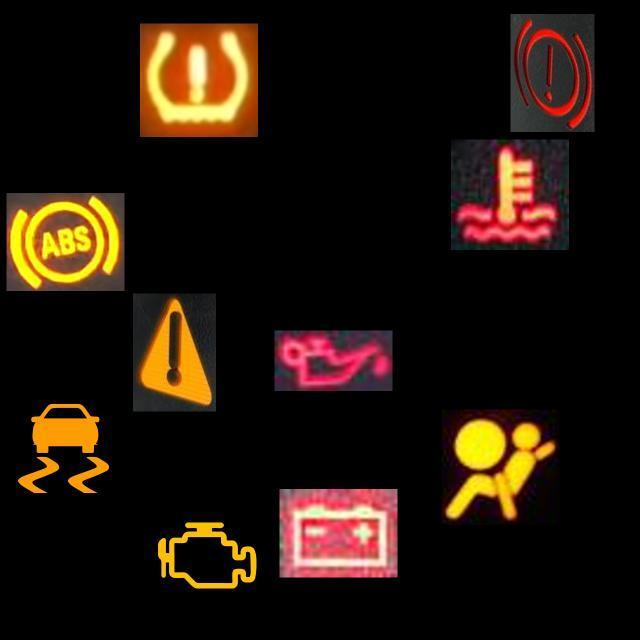Central Warning lamp: (133, 294, 216, 412)
Engine cooling system: (451, 140, 569, 250)
